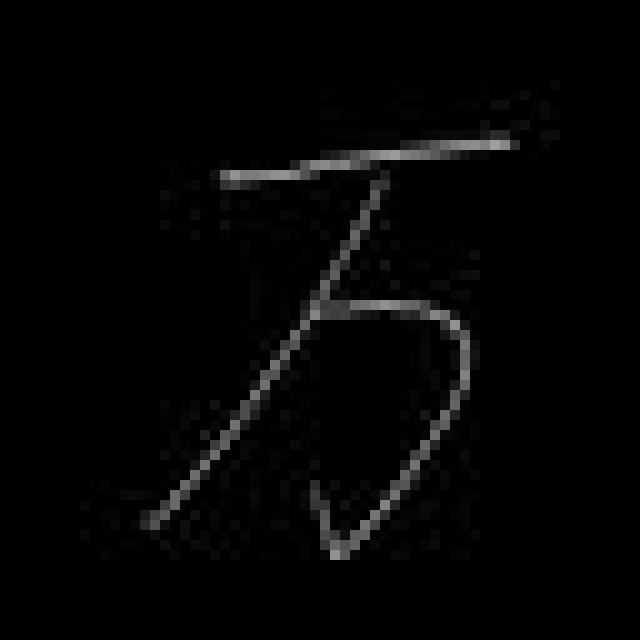10000 -a ten thousand-: (130, 114, 527, 571)
